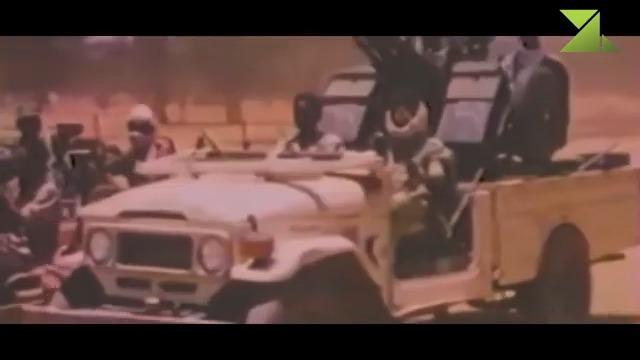MIL_HMMWV: (53, 47, 640, 325), (365, 84, 458, 191), (277, 92, 344, 156)
